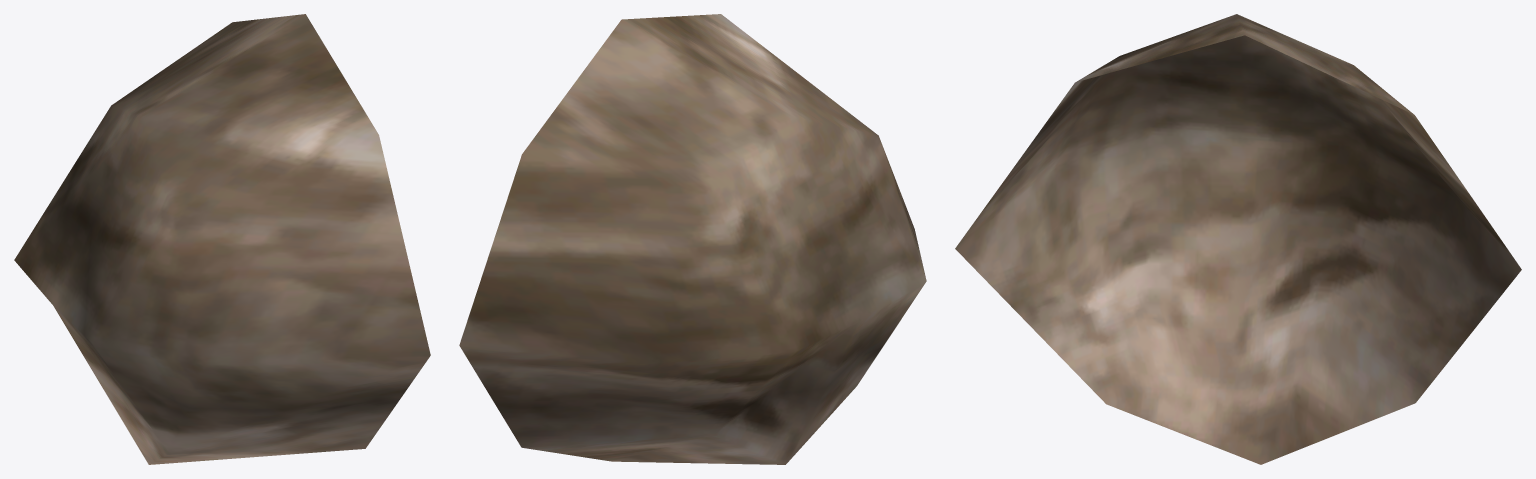
Rendered from OVERHILL_A_01_ROCK68.fbx.
3 views of the same model, side by side, from view 1: azimuth 30°, elevation 25°; view 2: azimuth 150°, elevation 25°; view 3: azimuth 270°, elevation 25° (orthographic).
Visible parts, largest first — view 1: OVERHILL_A_01_ROCK68; view 2: OVERHILL_A_01_ROCK68; view 3: OVERHILL_A_01_ROCK68.
Part boxes in pixels (left/top/right/bottom): OVERHILL_A_01_ROCK68: left=14, top=14, right=430, bottom=464; OVERHILL_A_01_ROCK68: left=459, top=14, right=926, bottom=464; OVERHILL_A_01_ROCK68: left=955, top=14, right=1521, bottom=464.
Size of the model in its own units: 3123 by 4642 by 5559.
Materials: 1 (1 with a texture image).
